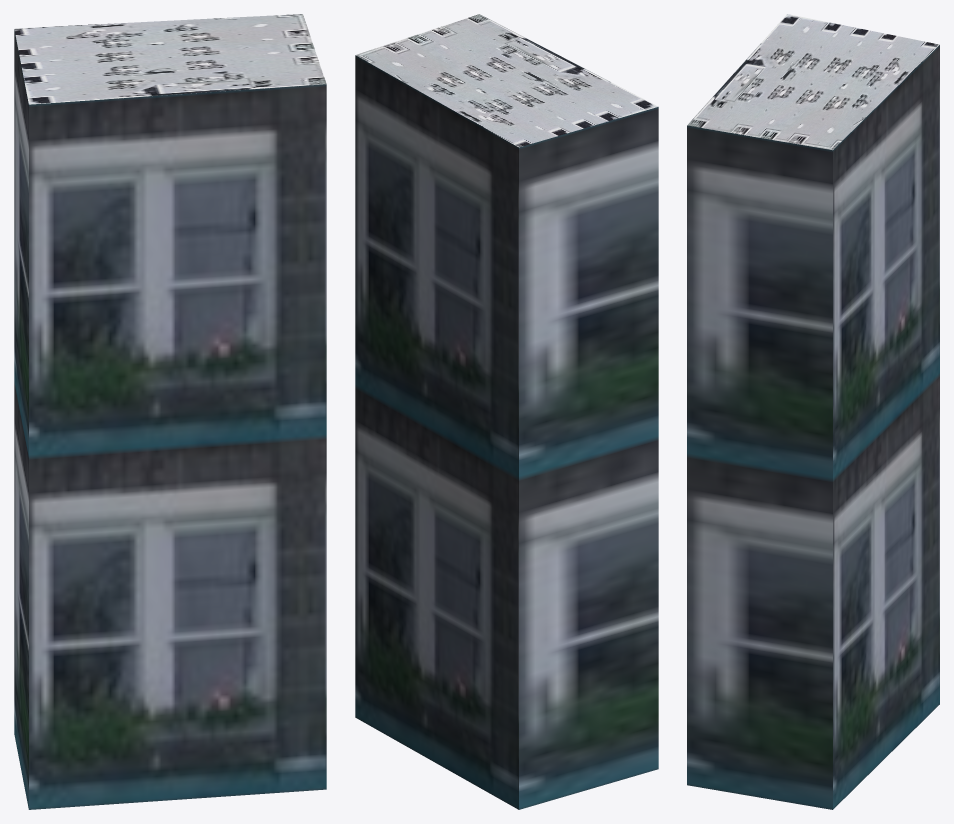
File: ResTex__4595.fbx
The picture shows the model from 3 angles, left to right: view 1: azimuth 30°, elevation 25°; view 2: azimuth 150°, elevation 25°; view 3: azimuth 270°, elevation 25°; orthographic projection. The views are drawn at different scales.
Parts seen in each view (by area): view 1: CityEngineMaterial_11_m, CityEngineMaterial_8_m; view 2: CityEngineMaterial_11_m, CityEngineMaterial_8_m; view 3: CityEngineMaterial_11_m, CityEngineMaterial_8_m.
Boxes of the visible parts, x1=… form: CityEngineMaterial_11_m: x1=14, y1=30, x2=326, y2=809; CityEngineMaterial_8_m: x1=14, y1=14, x2=326, y2=104; CityEngineMaterial_11_m: x1=355, y1=55, x2=658, y2=809; CityEngineMaterial_8_m: x1=355, y1=14, x2=657, y2=147; CityEngineMaterial_11_m: x1=687, y1=45, x2=939, y2=809; CityEngineMaterial_8_m: x1=687, y1=14, x2=939, y2=150.
Bounding box in the file's own units: 2.66 × 6 × 2.08.
Materials: 2 (2 with a texture image).
